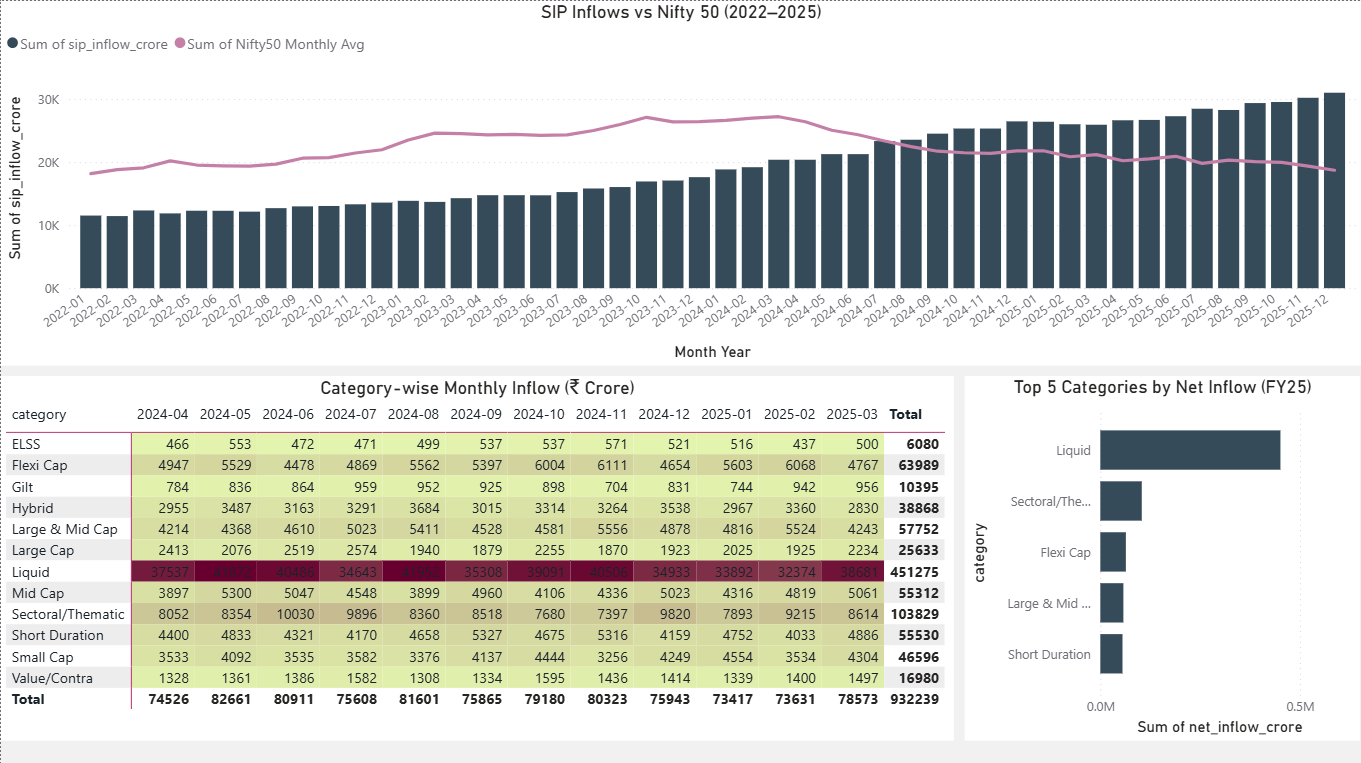

This screenshot's page, from the dashboard's own definition file:
{"tool":"powerbi","page":{"name":"SIP & Market Trends","canvas":[1280,720],"ordinal":3},"visuals":[{"type":"lineStackedColumnComboChart","title":"SIP Inflows vs Nifty 50 (2022–2025)","fields":{"Y":["Sum(04_monthly_sip_inflows.sip_inflow_crore)"],"Y2":["Sum(04_monthly_sip_inflows.Nifty50 Monthly Avg)"],"Category":["04_monthly_sip_inflows.Month Year"]},"box":[0,0,1280.2,343],"z":0},{"type":"pivotTable","title":"Category-wise Monthly Inflow (₹ Crore)","fields":{"Rows":["05_category_inflows.category"],"Values":["Sum(05_category_inflows.net_inflow_crore)"],"Columns":["05_category_inflows.Month Year"]},"box":[0,353.5,896.5,343],"z":1000},{"type":"clusteredBarChart","title":"Top 5 Categories by Net Inflow (FY25)","fields":{"Category":["05_category_inflows.category"],"Y":["Sum(05_category_inflows.net_inflow_crore)"]},"box":[907.5,352.7,372.2,343.5],"z":2000}]}

Visuals, with their boxes in screenshot pixels (x1, y1, x2, y2), scaled from the page's 1280x720 canvas onto the 1361x763 screenshot:
"SIP Inflows vs Nifty 50 (2022–2025)" lineStackedColumnComboChart: [0,0,1360,363]
"Category-wise Monthly Inflow (₹ Crore)" pivotTable: [0,375,953,738]
"Top 5 Categories by Net Inflow (FY25)" clusteredBarChart: [965,374,1360,738]
